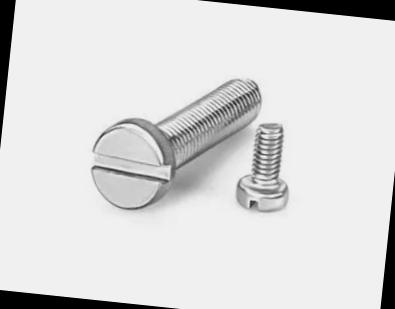screw: (86, 108, 180, 216)
